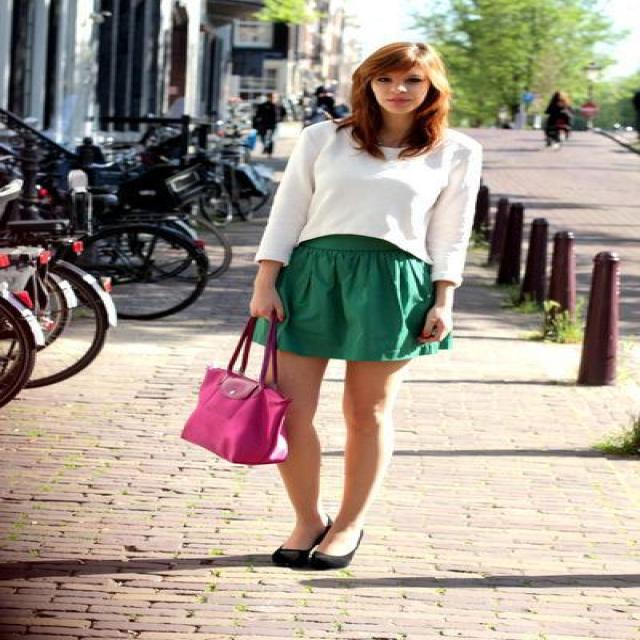bag: (181, 307, 286, 465)
shirt: (249, 119, 482, 304)
shoe: (250, 529, 324, 570)
skirt: (275, 234, 450, 362)
